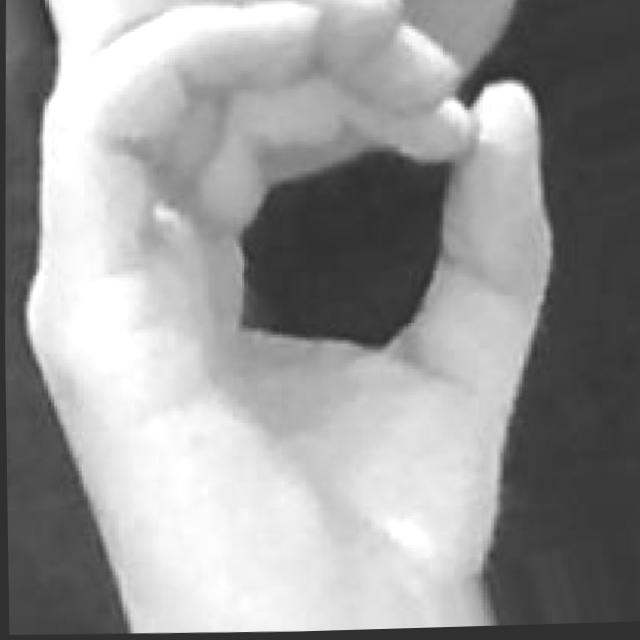O: (9, 0, 571, 640)
